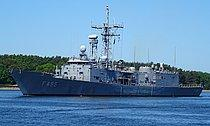MIL_Ship: (8, 32, 204, 98)
